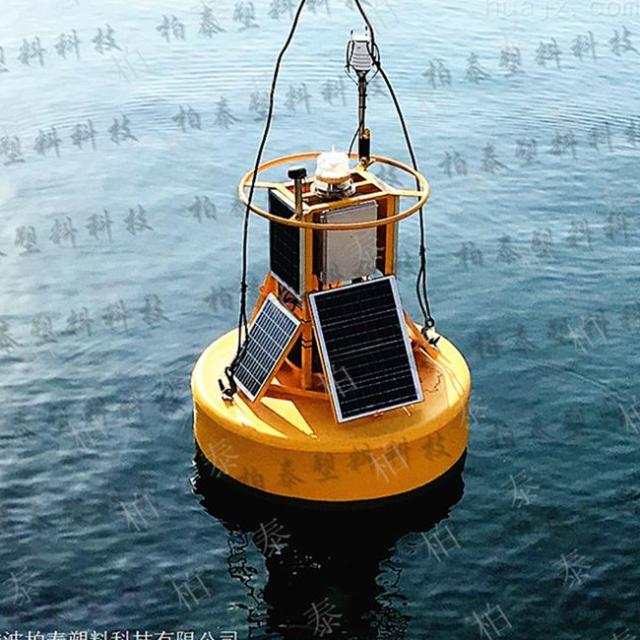buoy: (190, 1, 476, 499)
